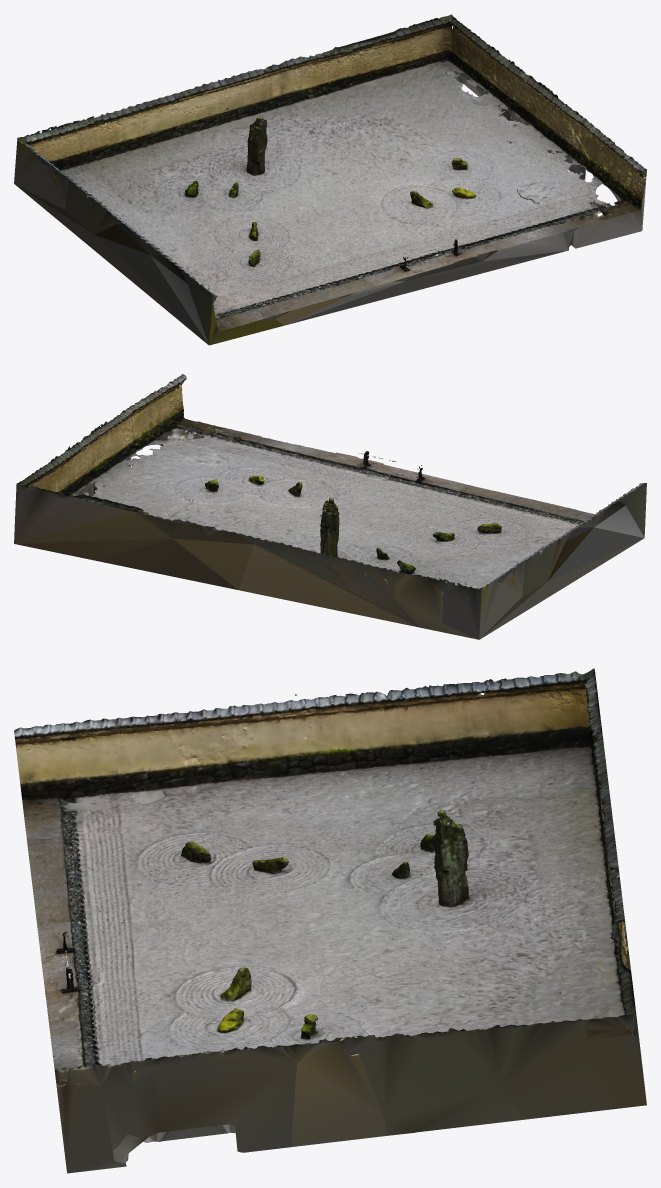
File: zen-garden.glb
3 views of the same model, one above another, from view 1: azimuth 30°, elevation 25°; view 2: azimuth 150°, elevation 25°; view 3: azimuth 270°, elevation 25° (orthographic). The views are drawn at different scales.
Parts seen in each view (by area): view 1: Object_2; view 2: Object_2; view 3: Object_2.
Part boxes in pixels (bbox=[...]): Object_2: bbox=[14, 14, 646, 345]; Object_2: bbox=[14, 374, 646, 639]; Object_2: bbox=[14, 668, 646, 1173].
Size of the model in its own units: 14.09 by 2.74 by 10.3.
Materials: 1 (1 with a texture image).
